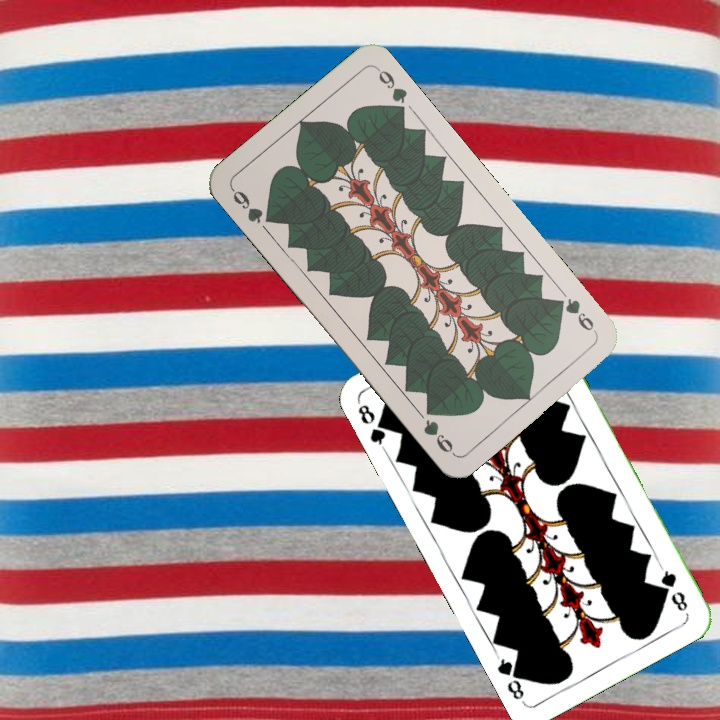G8: (354, 400, 393, 451), (655, 562, 691, 615)
G9: (227, 184, 278, 226), (550, 294, 600, 336)
